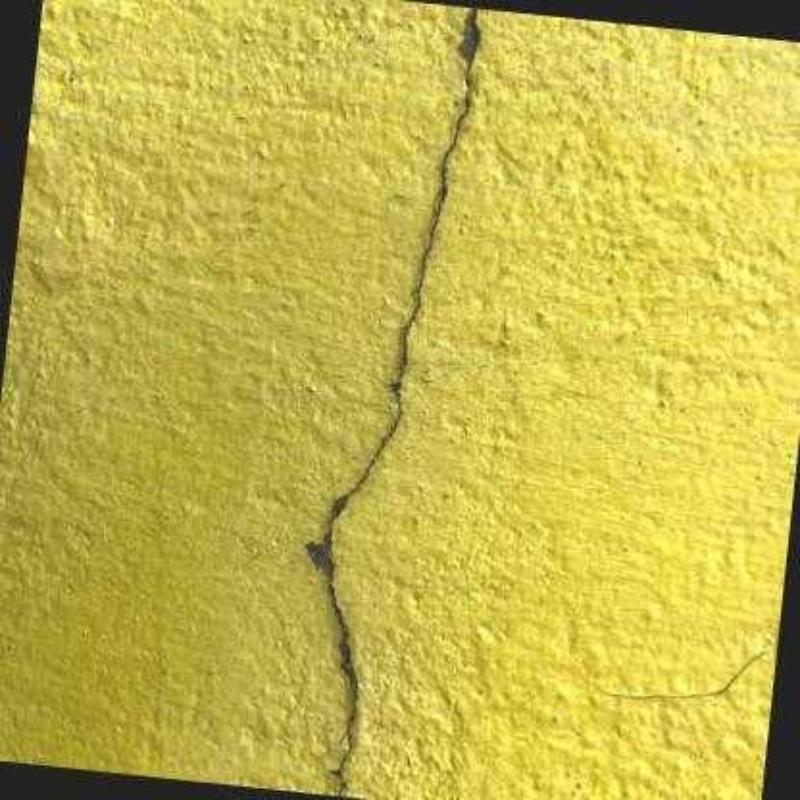crack: (328, 8, 480, 798)
